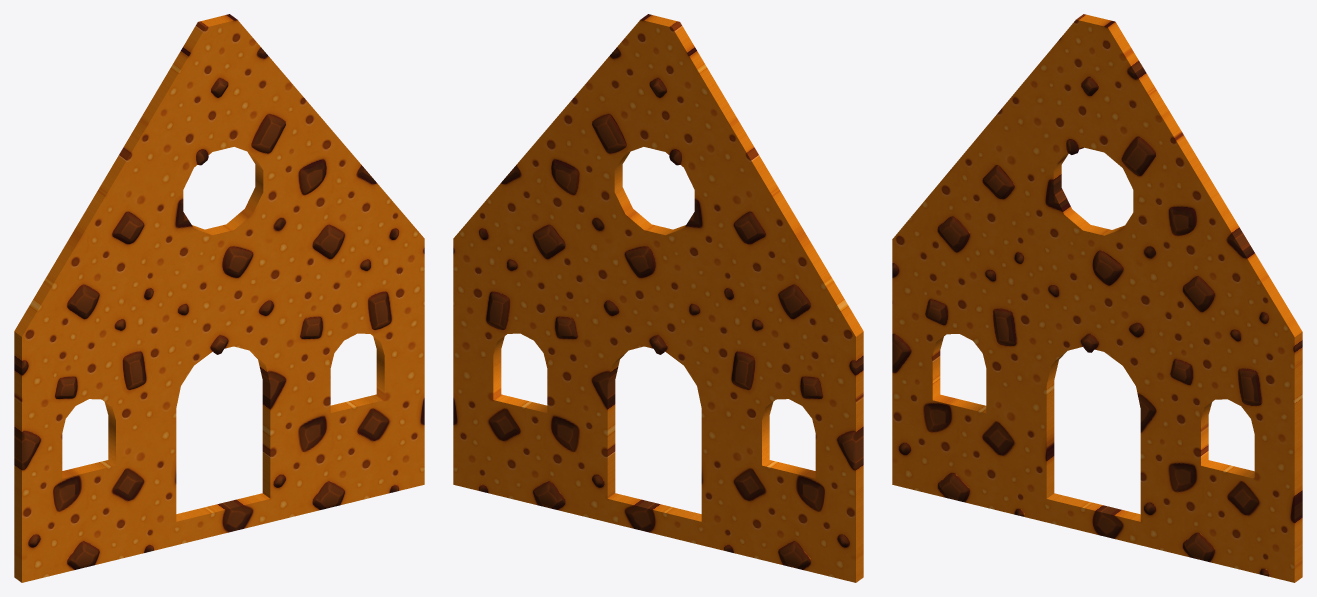
File: Wall_001.fbx
The picture shows the model from 3 angles, left to right: view 1: azimuth 30°, elevation 25°; view 2: azimuth 150°, elevation 25°; view 3: azimuth 330°, elevation 25°; orthographic projection.
Parts seen in each view (by area): view 1: Wall_001; view 2: Wall_001; view 3: Wall_001.
Boxes of the visible parts, box(x1,y1,x2,y2) form: Wall_001: box(14, 14, 424, 582); Wall_001: box(453, 14, 863, 582); Wall_001: box(892, 14, 1302, 582).
Bounding box in the file's own units: 6 × 7.27 × 0.3052.
